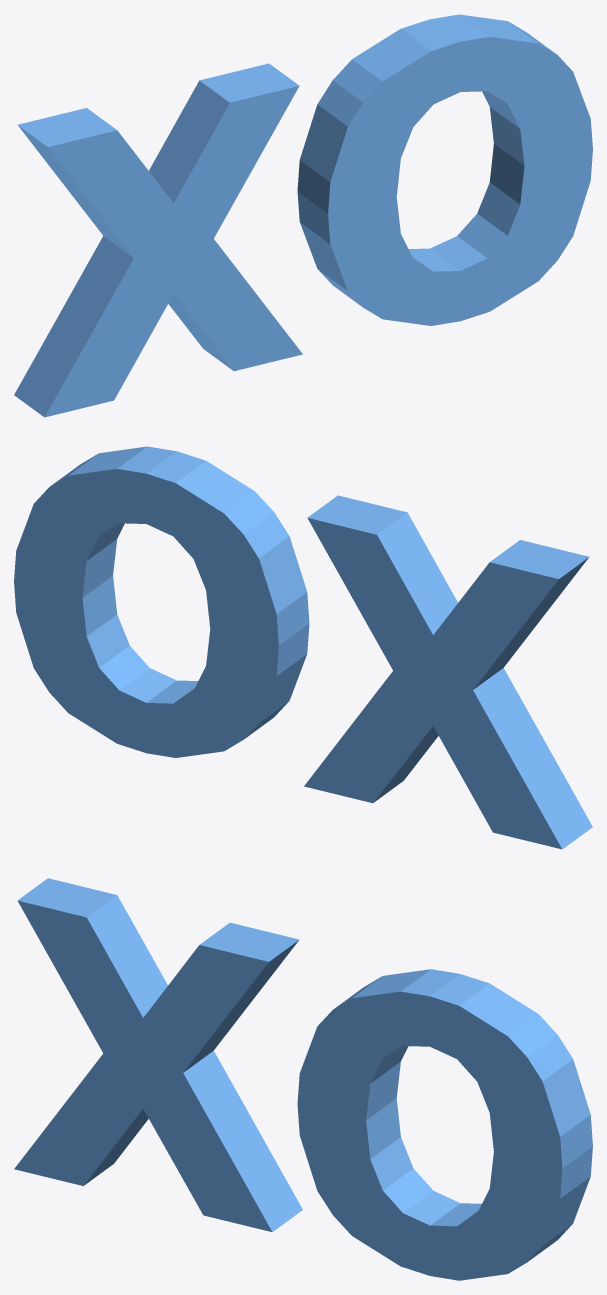
Rendered from suku_besar_xo.glb.
3 views of the same model, one above another, from view 1: azimuth 30°, elevation 25°; view 2: azimuth 150°, elevation 25°; view 3: azimuth 330°, elevation 25° (orthographic).
Visible parts, largest first — view 1: geometry_0; view 2: geometry_0; view 3: geometry_0.
Part boxes in pixels (x1,y1,x2,y2): geometry_0: (14, 14, 592, 417); geometry_0: (14, 446, 592, 849); geometry_0: (14, 878, 592, 1280).
Bounding box in the file's own units: 15.53 × 7.56 × 1.5.
